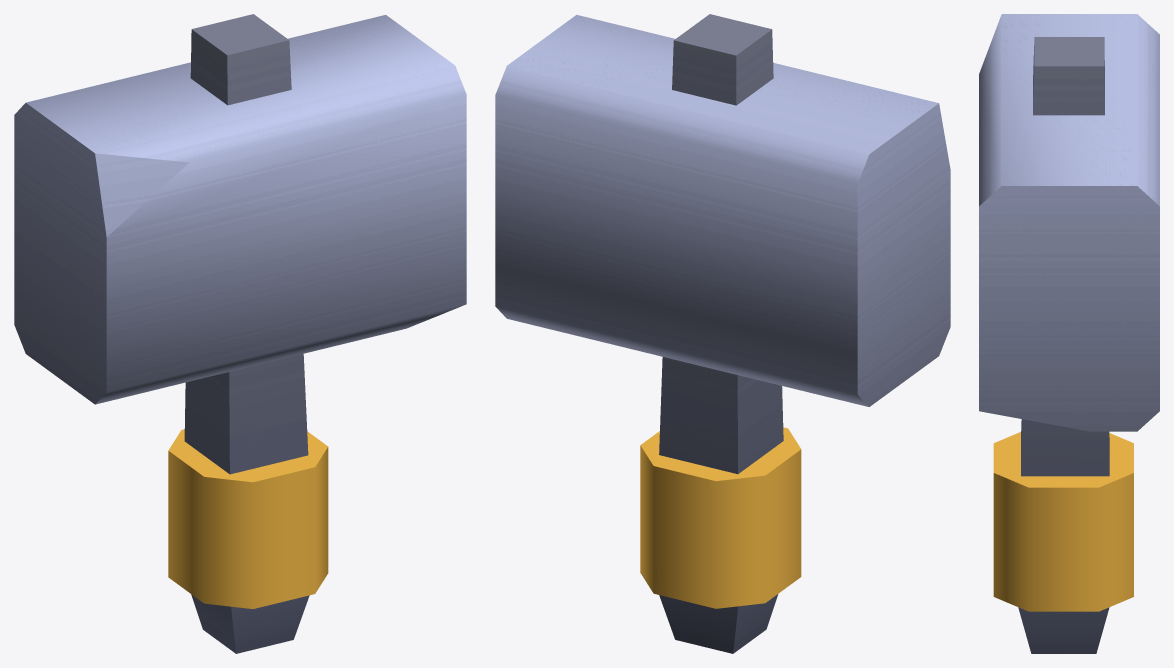
The model's file is martelo.glb.
3 renders of one model, left to right at view 1: azimuth 30°, elevation 25°; view 2: azimuth 150°, elevation 25°; view 3: azimuth 270°, elevation 25°, orthographic. The views are drawn at different scales.
Parts seen in each view (by area): view 1: tool-hammer-upgraded; view 2: tool-hammer-upgraded; view 3: tool-hammer-upgraded.
Boxes of the visible parts, left/top/right/bottom form: tool-hammer-upgraded: left=14, top=14, right=466, bottom=653; tool-hammer-upgraded: left=495, top=14, right=950, bottom=653; tool-hammer-upgraded: left=979, top=14, right=1159, bottom=653.
Bounding box in the file's own units: 0.1161 × 0.1846 × 0.0516.
Materials: 1 (1 with a texture image).
